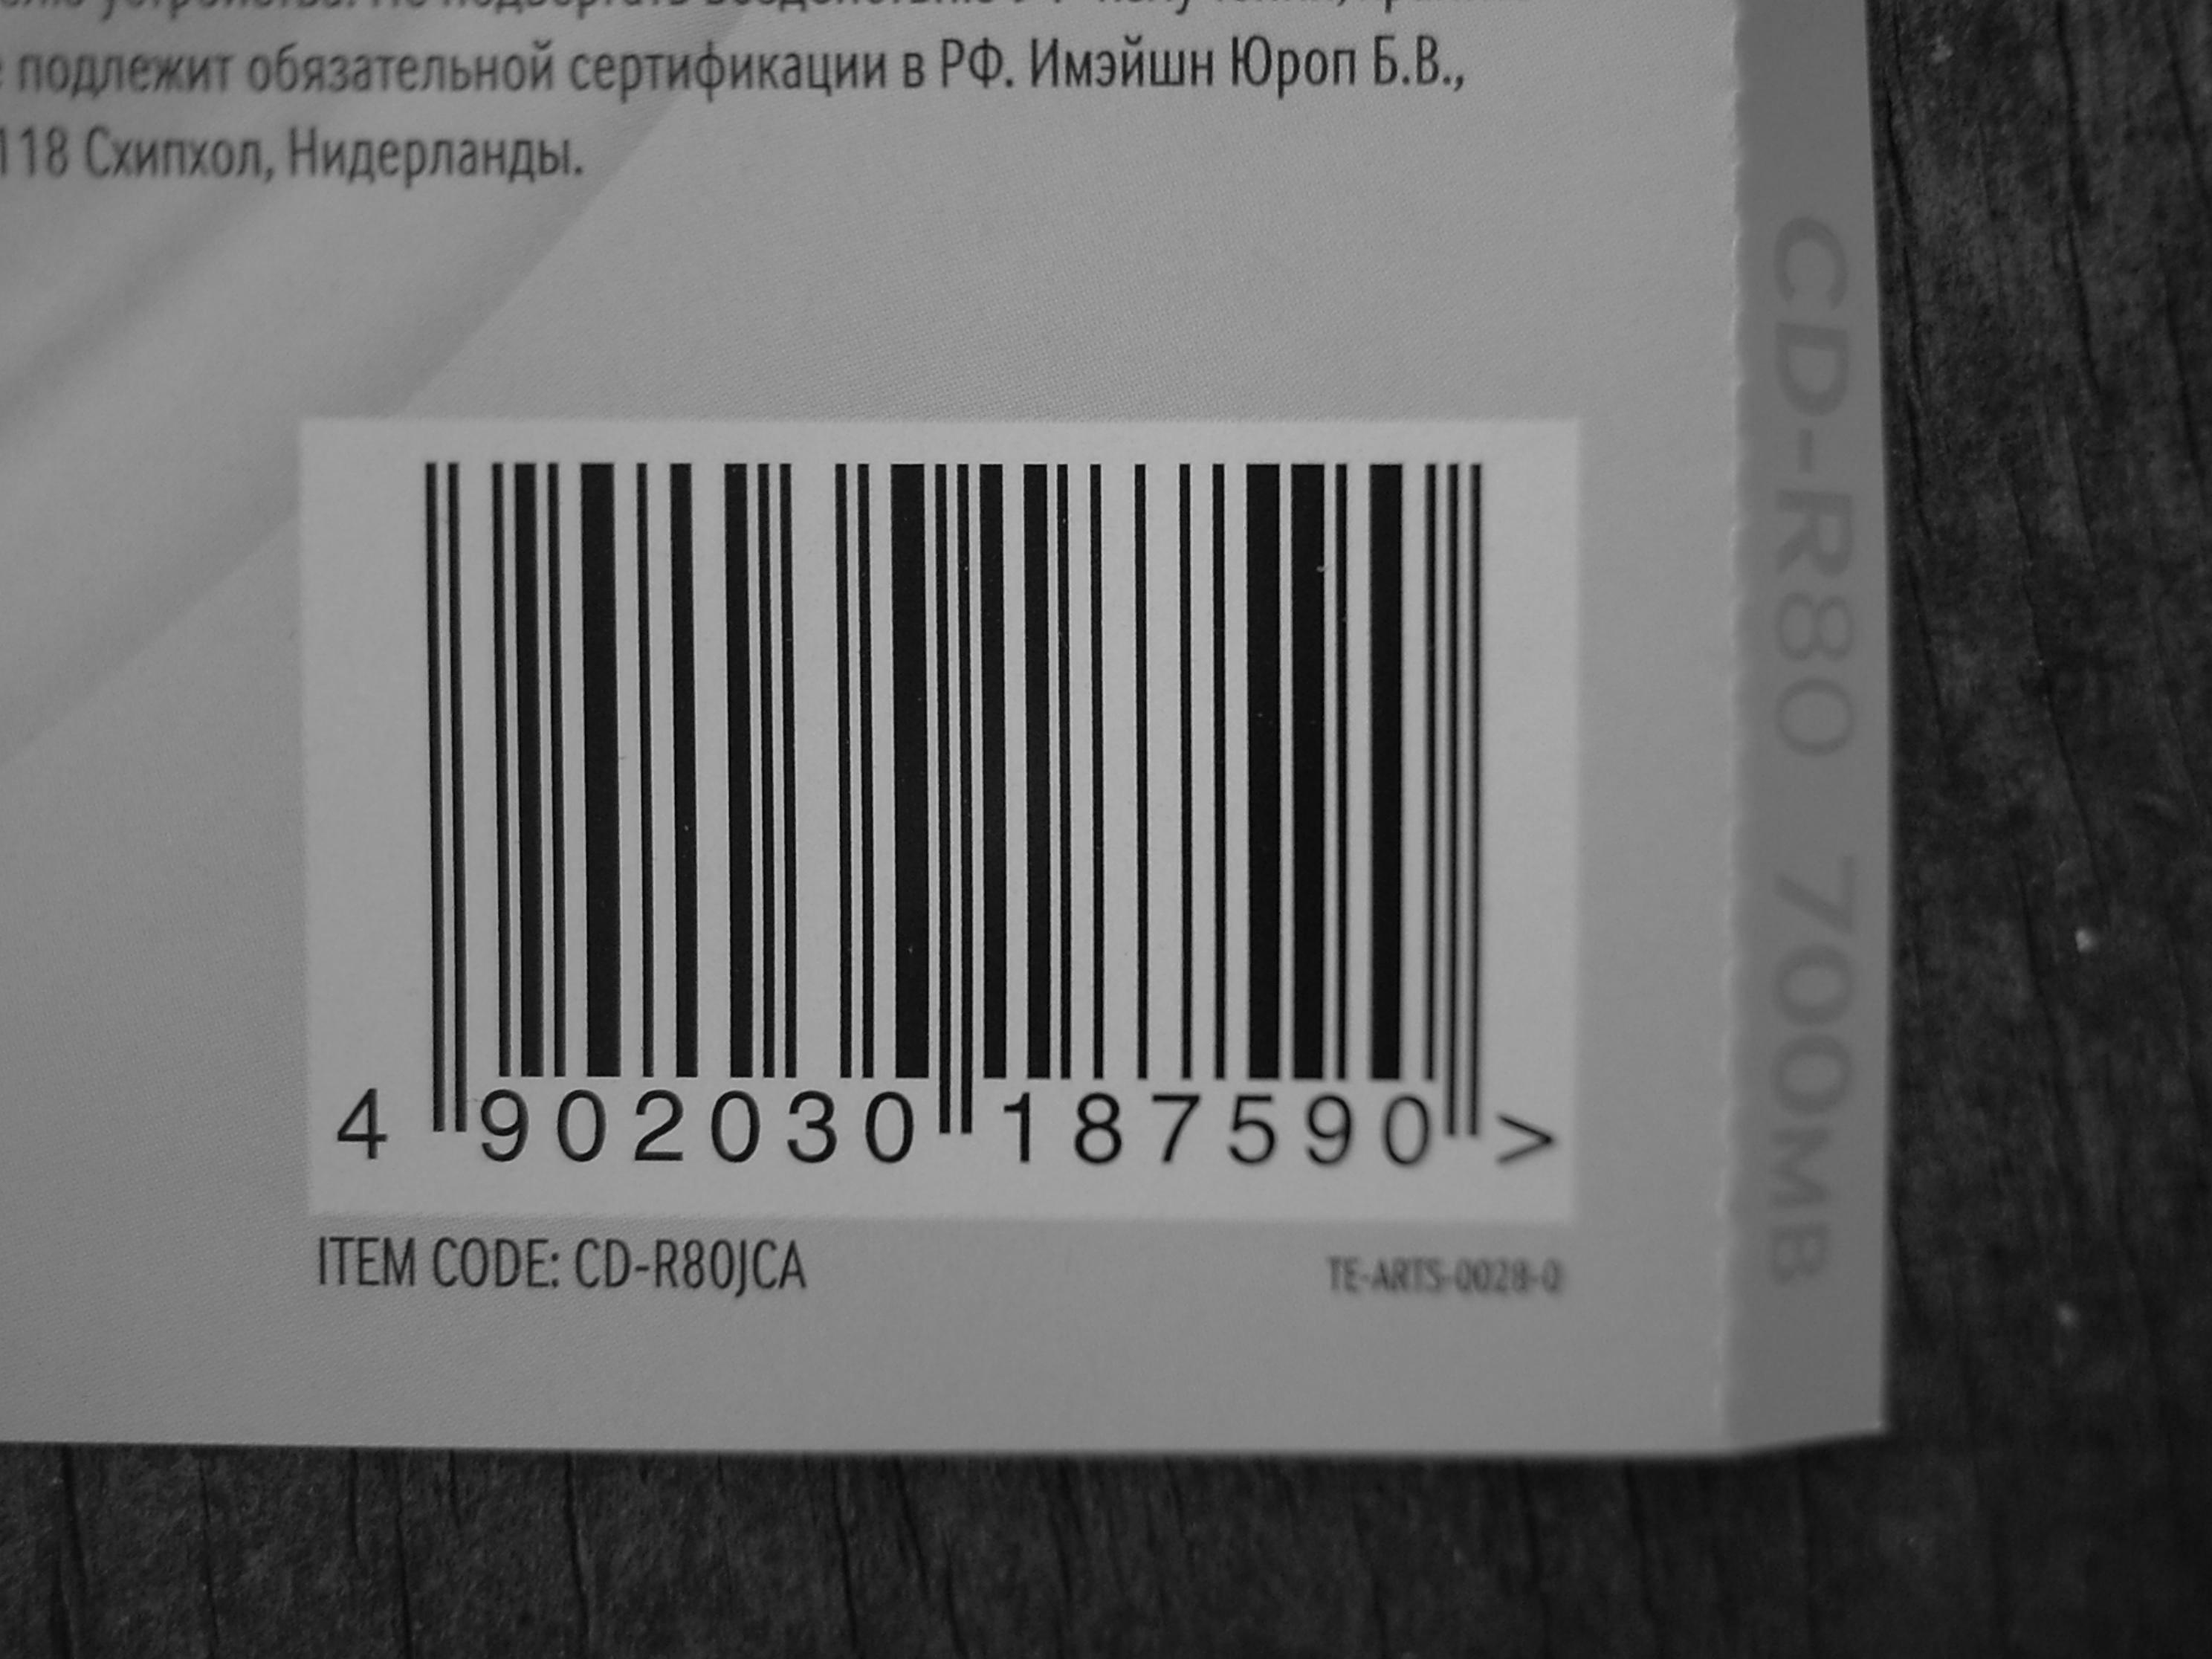Barcode: (401, 446, 1538, 1091)
